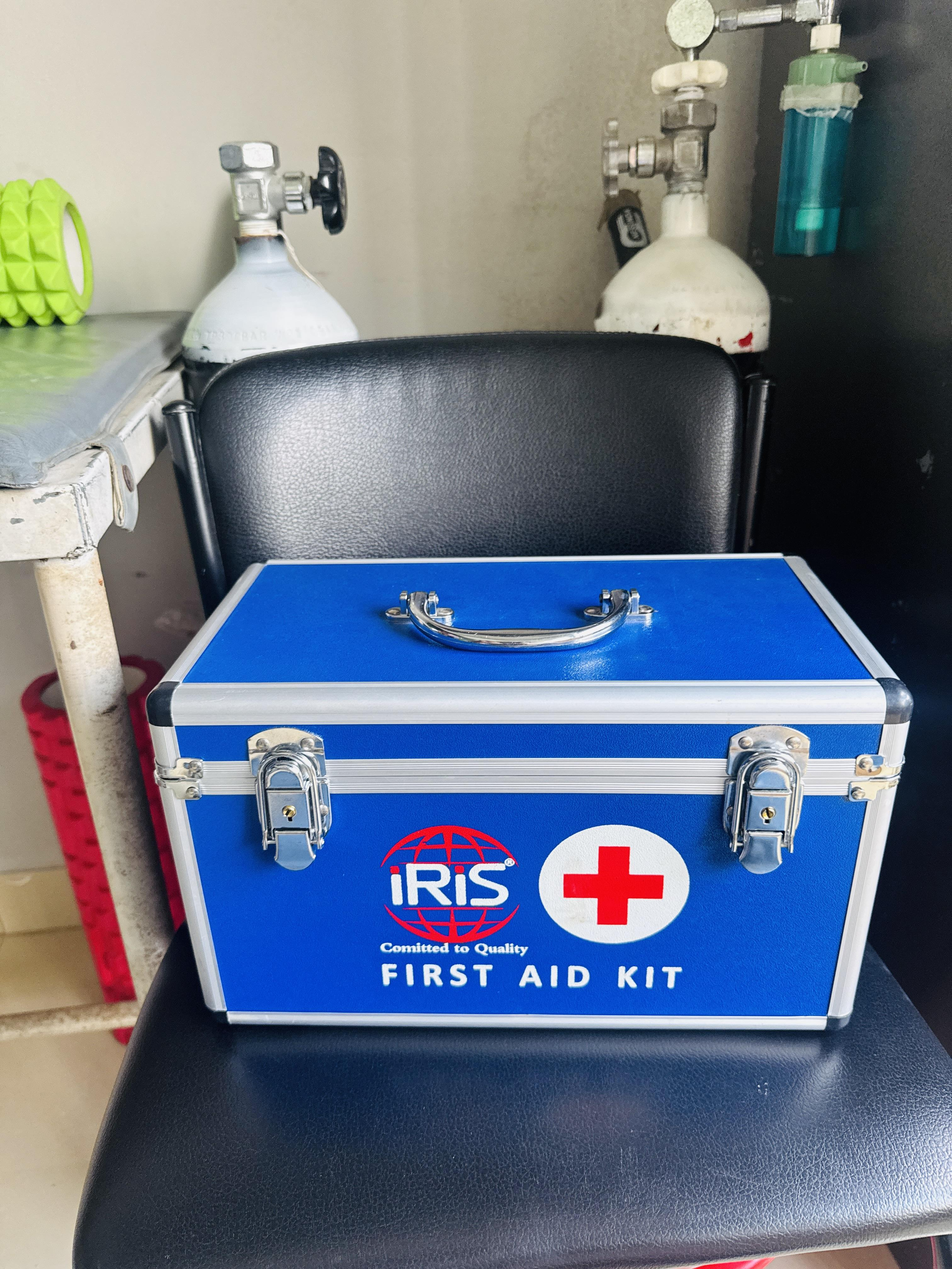FirstAidBox: (143, 524, 927, 1069)
